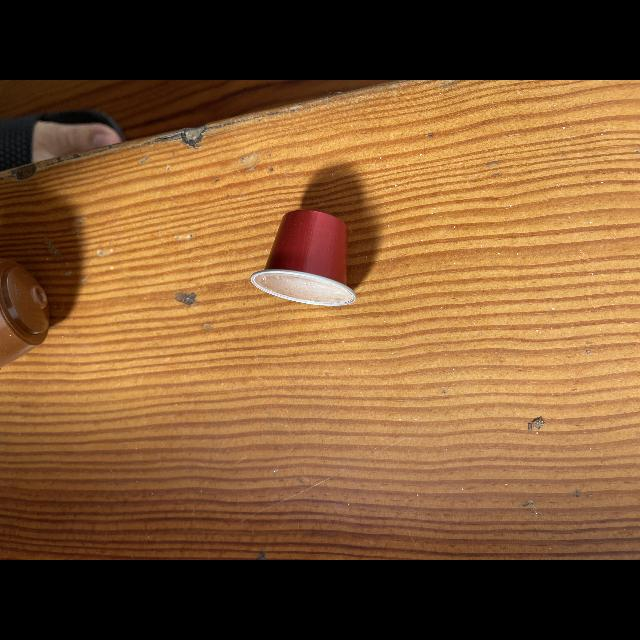intact_capsule: (248, 200, 364, 326)
